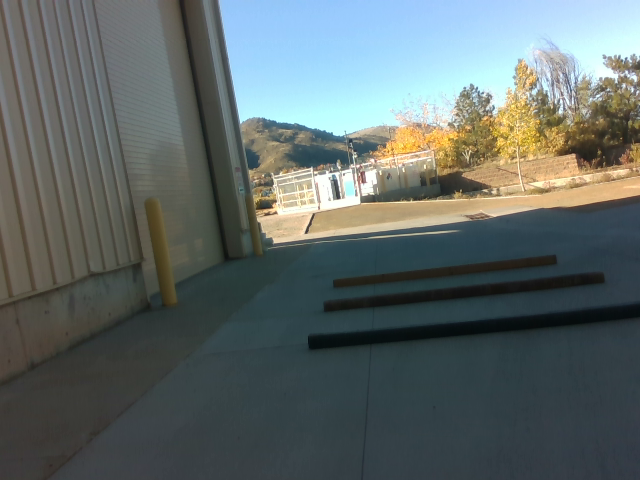Dunnage: (298, 252, 640, 358)
